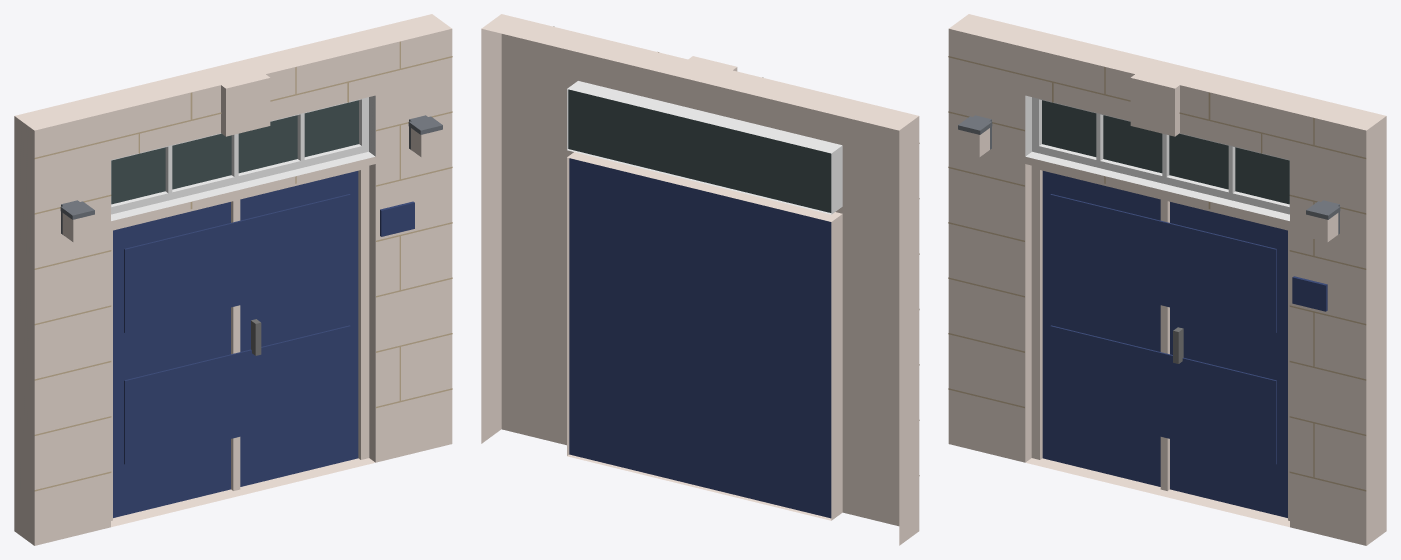
The model's file is entrance_close.fbx.
3 views of the same model, side by side, from view 1: azimuth 30°, elevation 25°; view 2: azimuth 150°, elevation 25°; view 3: azimuth 330°, elevation 25° (orthographic).
Parts seen in each view (by area): view 1: a2006/500/entrance_close; view 2: a2006/500/entrance_close; view 3: a2006/500/entrance_close.
Boxes of the visible parts, bbox=[...] form: a2006/500/entrance_close: bbox=[14, 14, 452, 545]; a2006/500/entrance_close: bbox=[481, 14, 919, 545]; a2006/500/entrance_close: bbox=[948, 14, 1386, 545].
Bounding box in the file's own units: 3 × 2.85 × 0.43.
